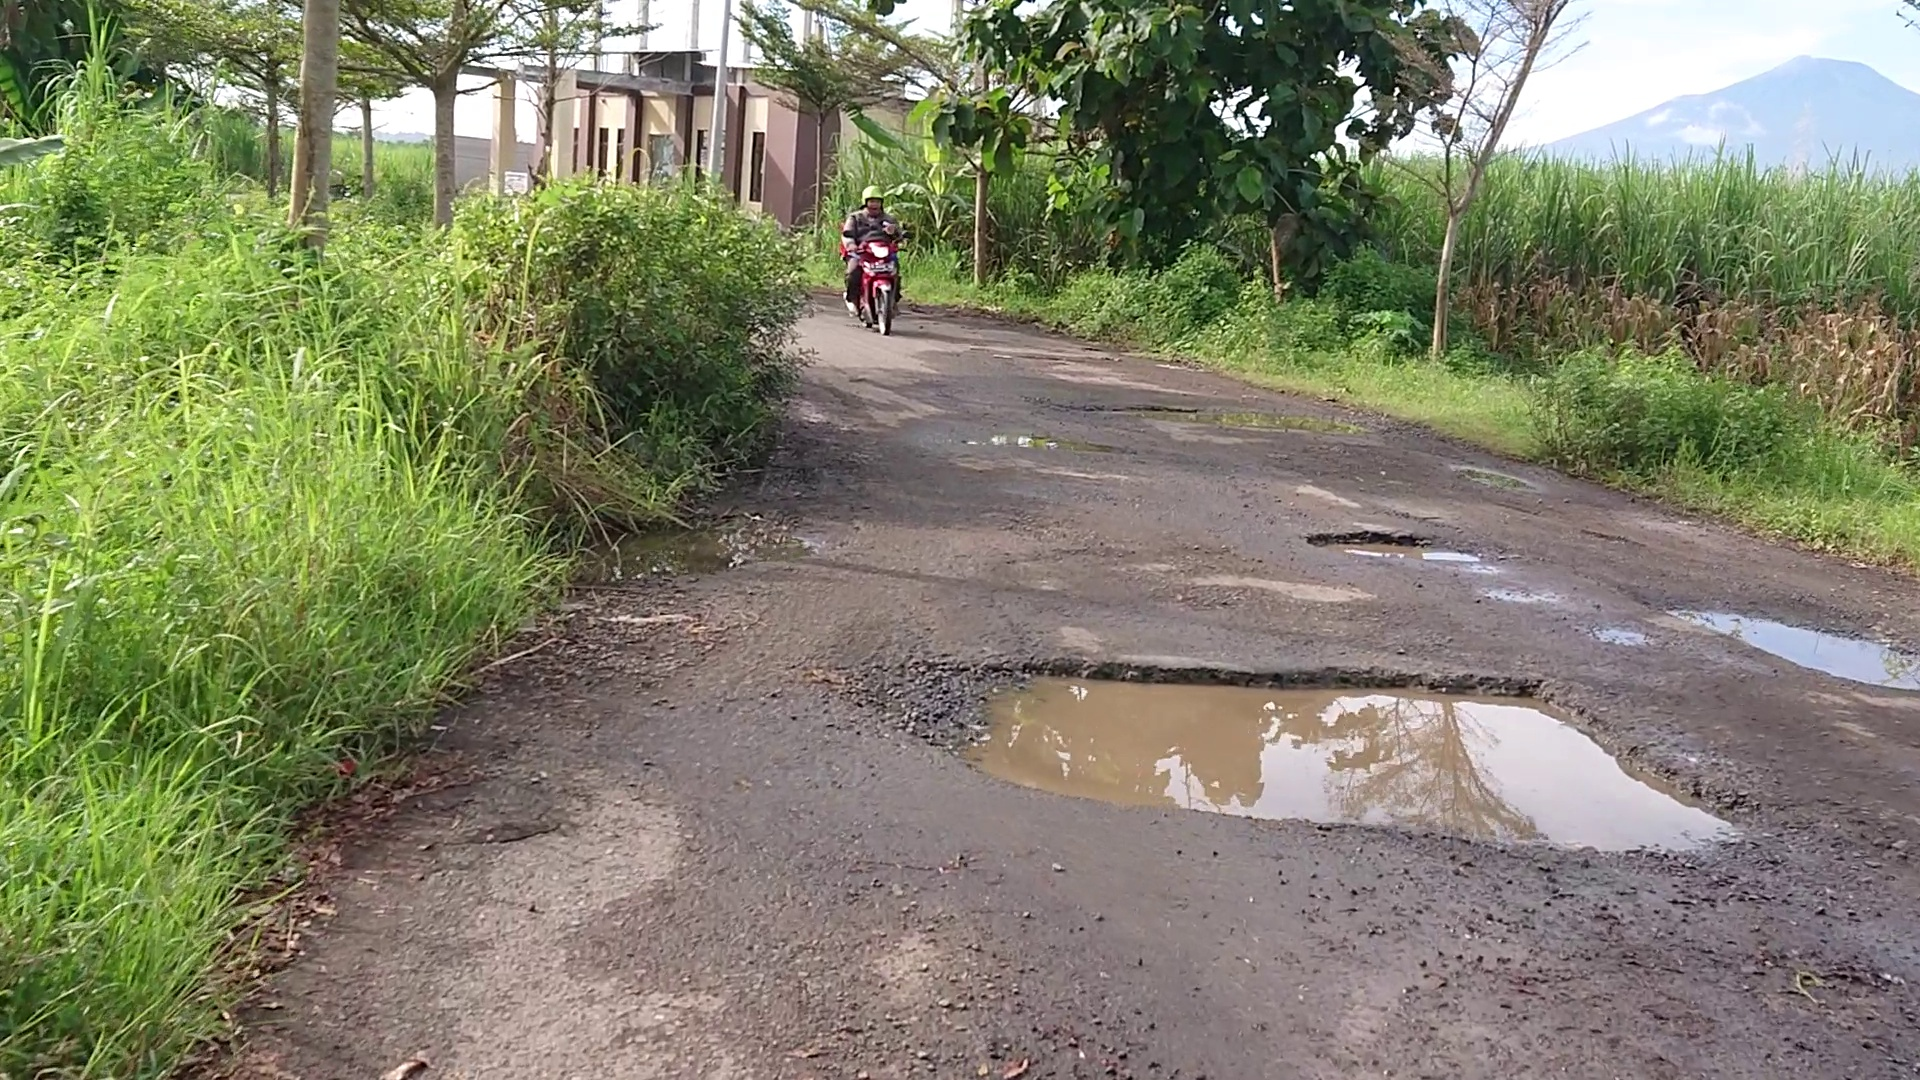Berlubang: (982, 673, 1718, 860), (1667, 599, 1894, 684), (1096, 394, 1345, 433), (1311, 533, 1491, 568)
